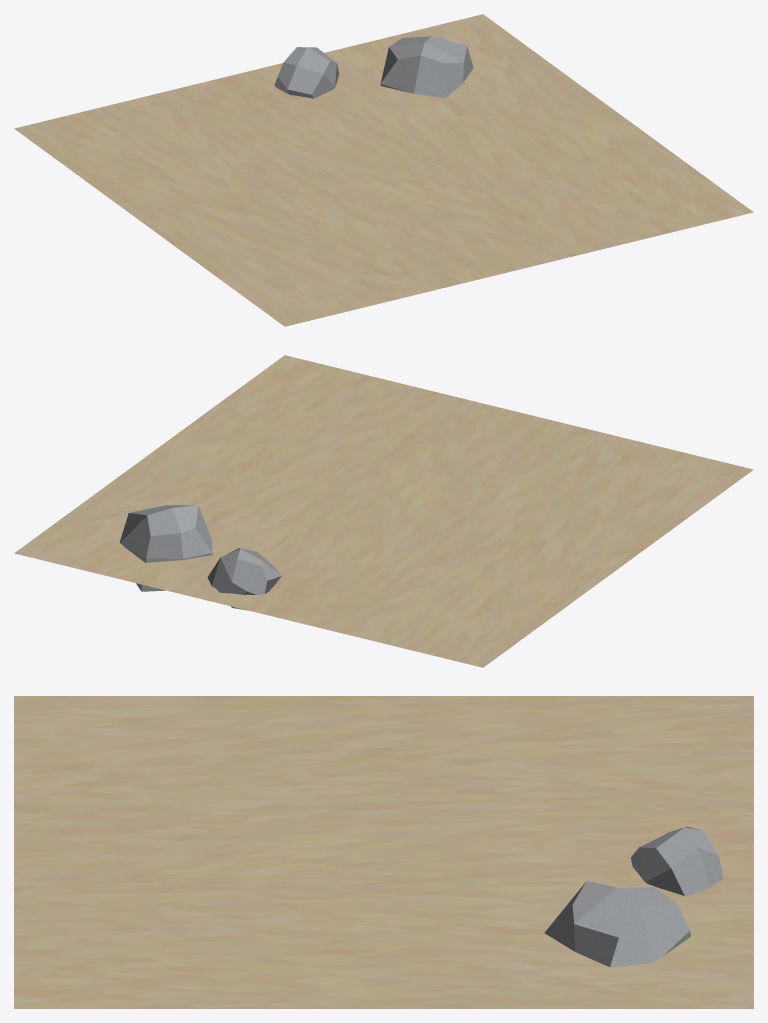
Rendered from park_road_1.fbx.
The picture shows the model from 3 angles, top to bottom: view 1: azimuth 30°, elevation 25°; view 2: azimuth 150°, elevation 25°; view 3: azimuth 270°, elevation 25°; orthographic projection. The views are drawn at different scales.
Parts seen in each view (by area): view 1: park_road, stone.020, stone.021; view 2: park_road, stone.020, stone.021; view 3: park_road, stone.020, stone.021.
Part boxes in pixels (x1,y1,x2,y2): park_road: [14, 14, 753, 326]; stone.020: [380, 36, 473, 97]; stone.021: [274, 47, 339, 98]; park_road: [14, 355, 753, 667]; stone.020: [119, 505, 212, 591]; stone.021: [207, 548, 281, 610]; park_road: [14, 696, 753, 1008]; stone.020: [544, 881, 690, 967]; stone.021: [630, 826, 723, 895].
Size of the model in its own units: 2 by 0.2905 by 2.
2 materials, 2 textured.
